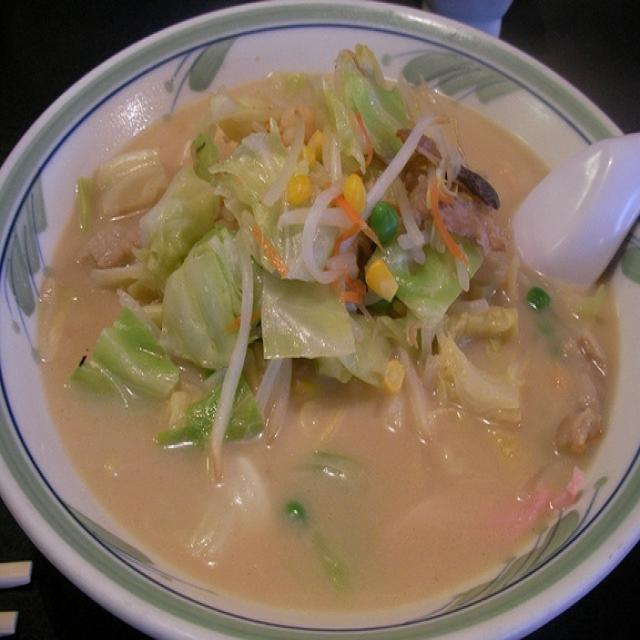烧串烤肉: (66, 21, 592, 534)
